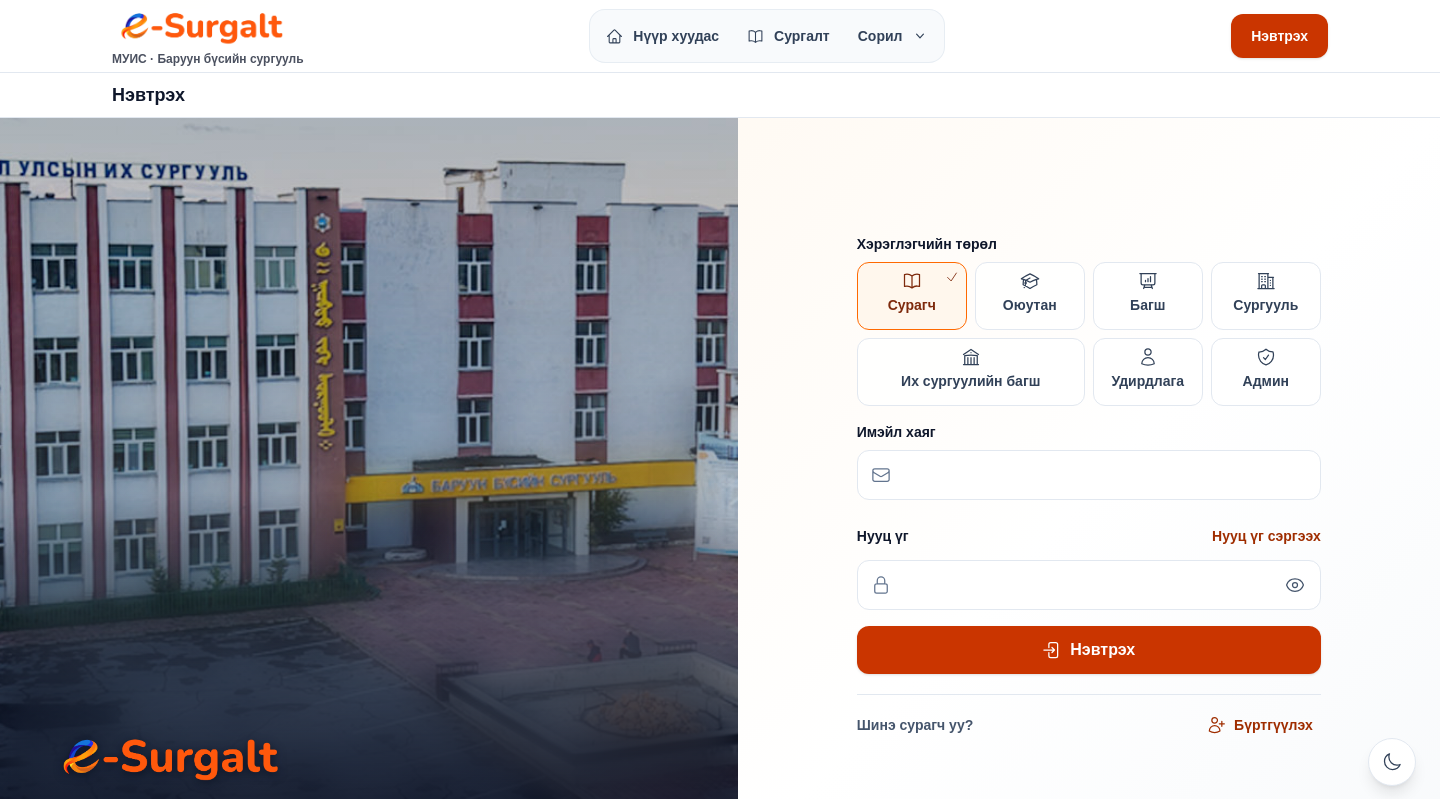
Scenario: a university teacher can sign in using a formatted Mongolian phone number
Step 1. Click the radio button labelled "Их сургуулийн багш" → (971, 372), box left=857, top=338, right=1085, bottom=406
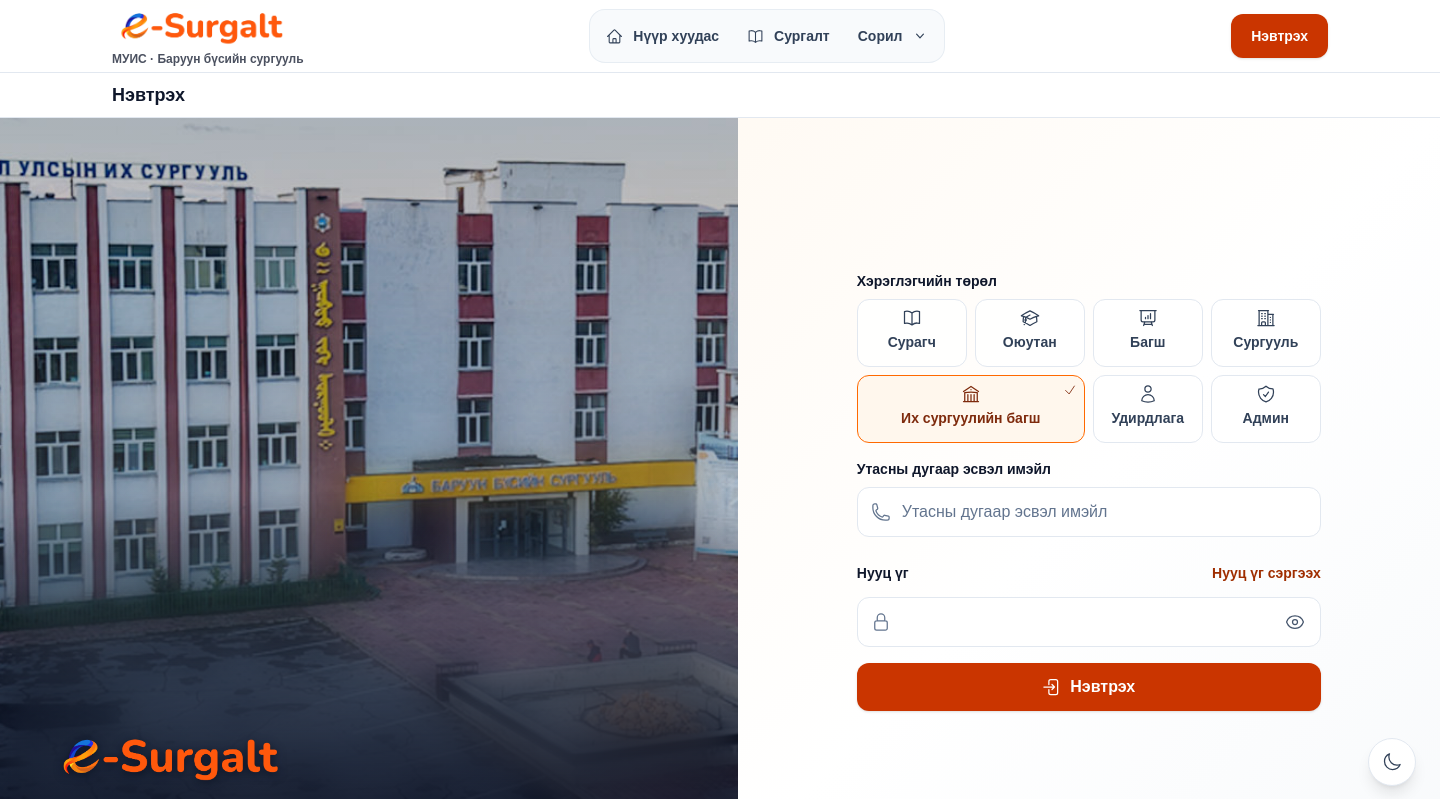
Step 2. Type "123" into the field labelled "Утасны дугаар эсвэл имэйл" → (1089, 512), box left=857, top=486, right=1321, bottom=536
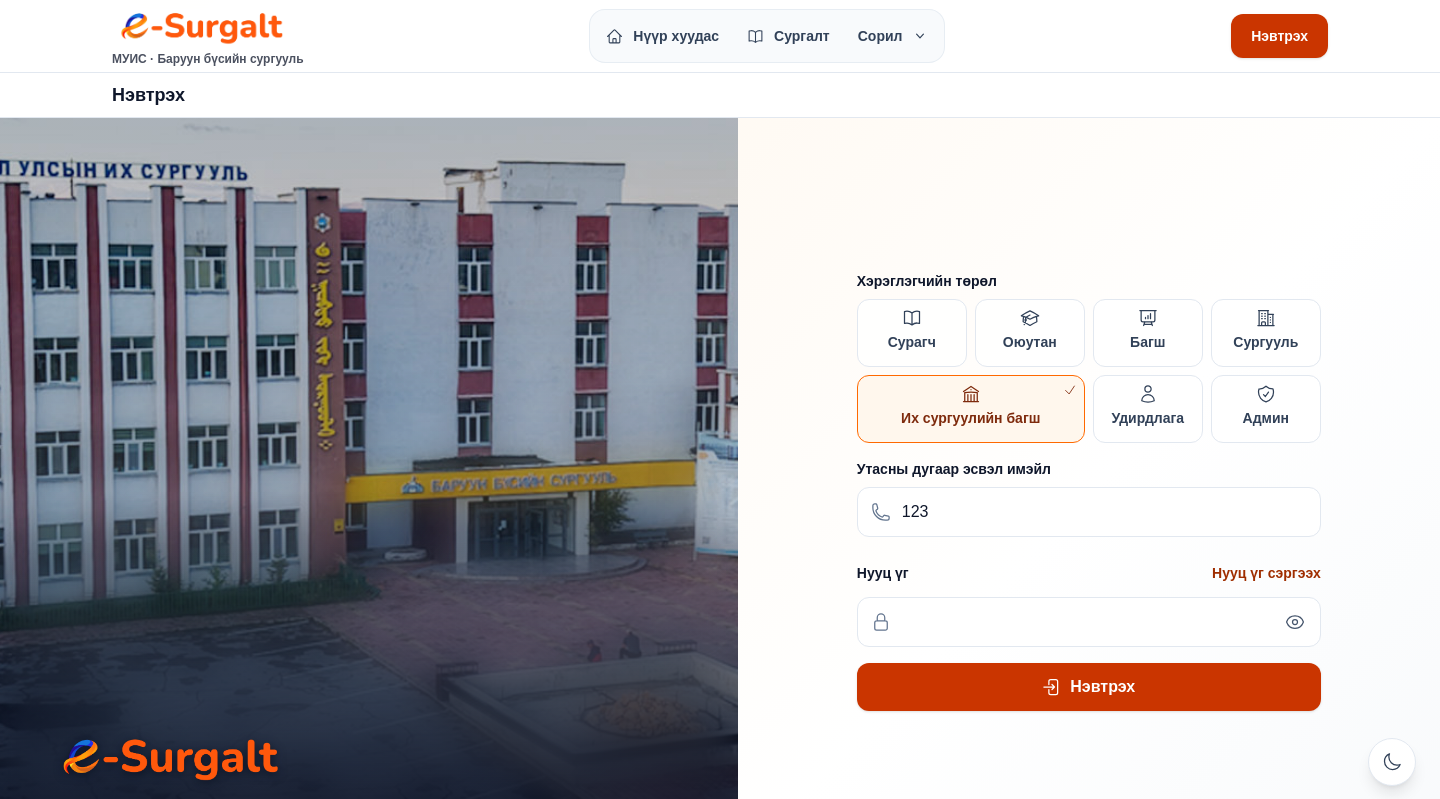
Step 3. Type "example-password" into the password field labelled "Нууц үг" → (1089, 622), box left=857, top=596, right=1321, bottom=646
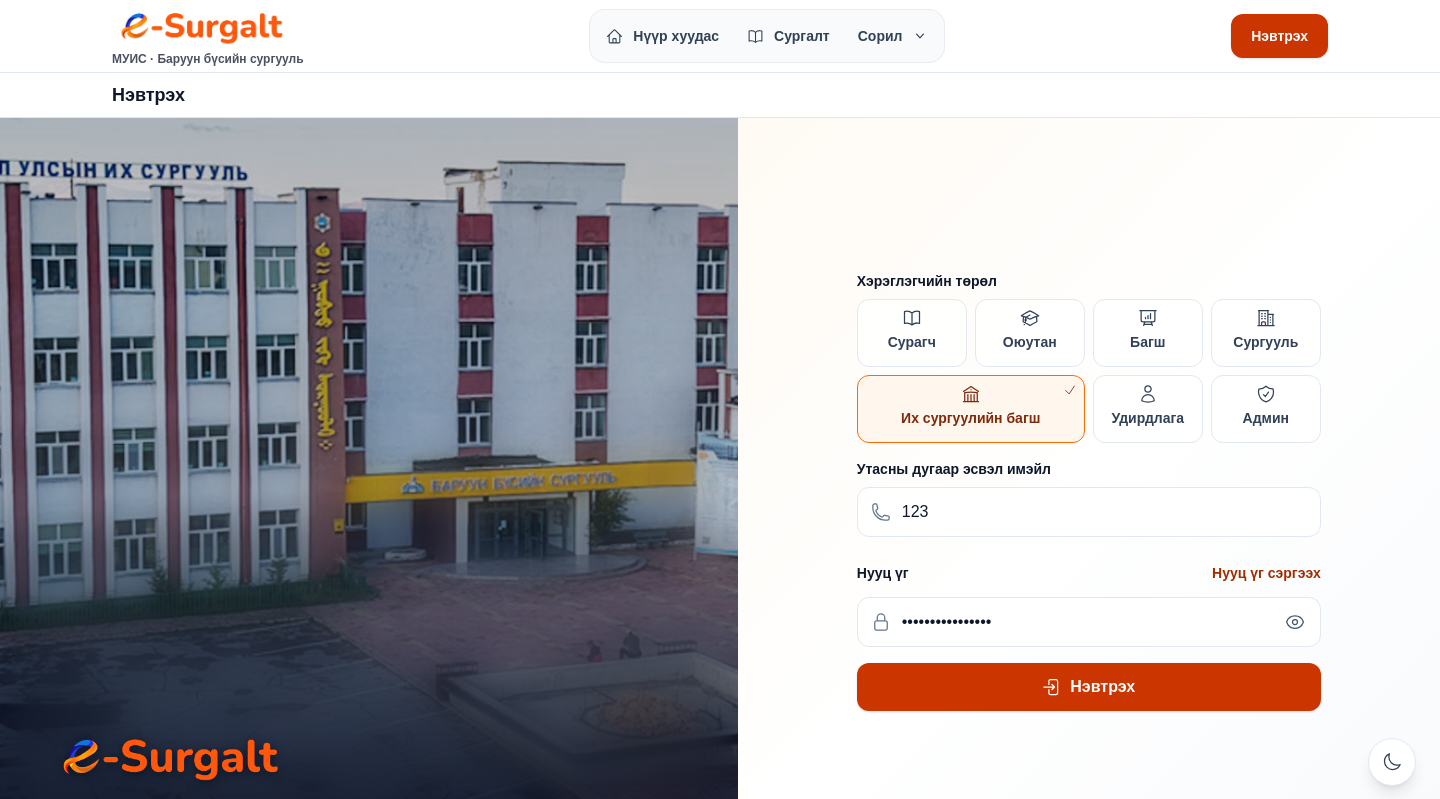
Step 4. Click the button "Нэвтрэх" → (1089, 686), box left=857, top=662, right=1321, bottom=710
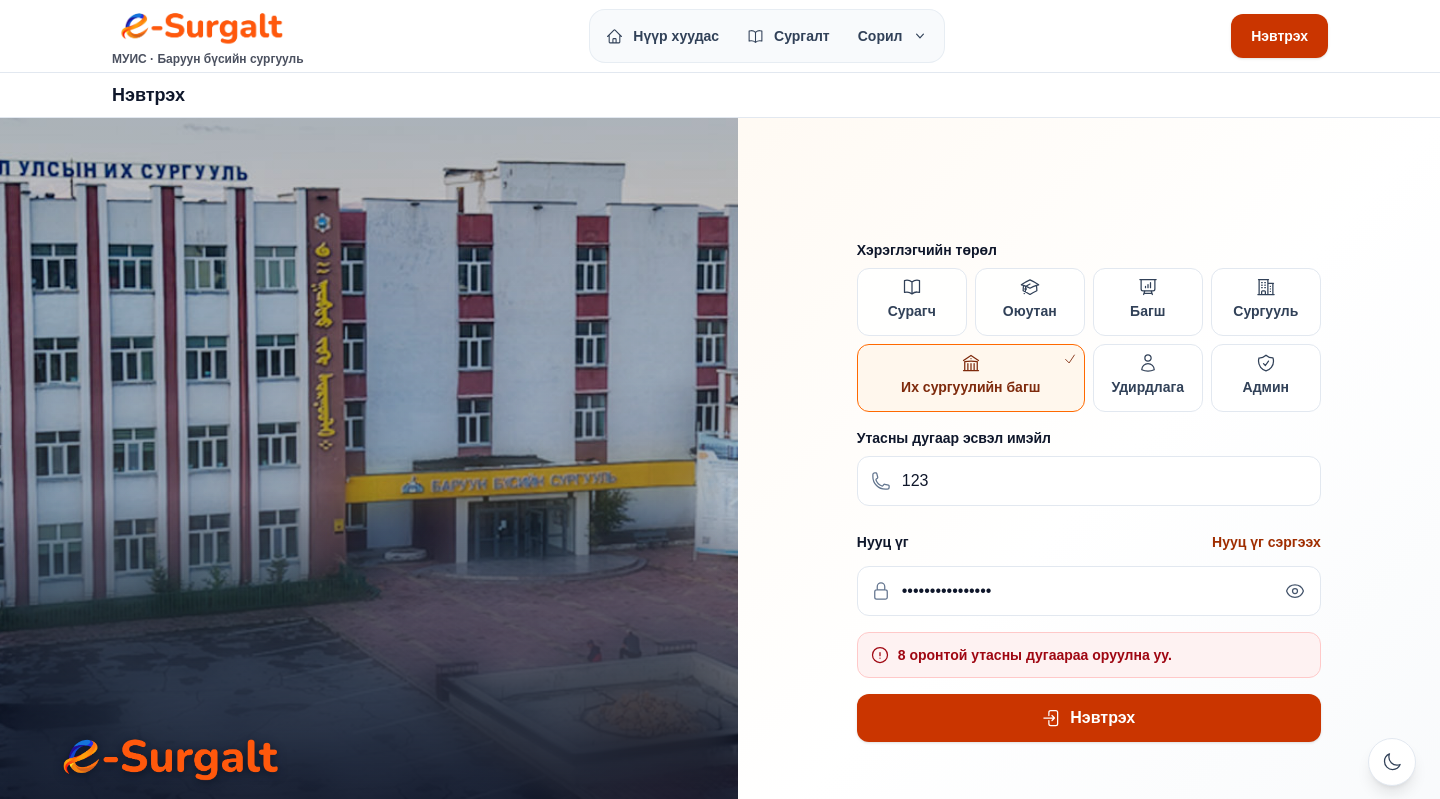
Expected: the message reads "8 оронтой утасны дугаараа оруулна уу.", left=898, top=646, right=1172, bottom=662
Step 5. Replace the text in the field labelled "Утасны дугаар эсвэл имэйл" with "+976 9911-2233" → (1089, 480), box left=857, top=456, right=1321, bottom=506
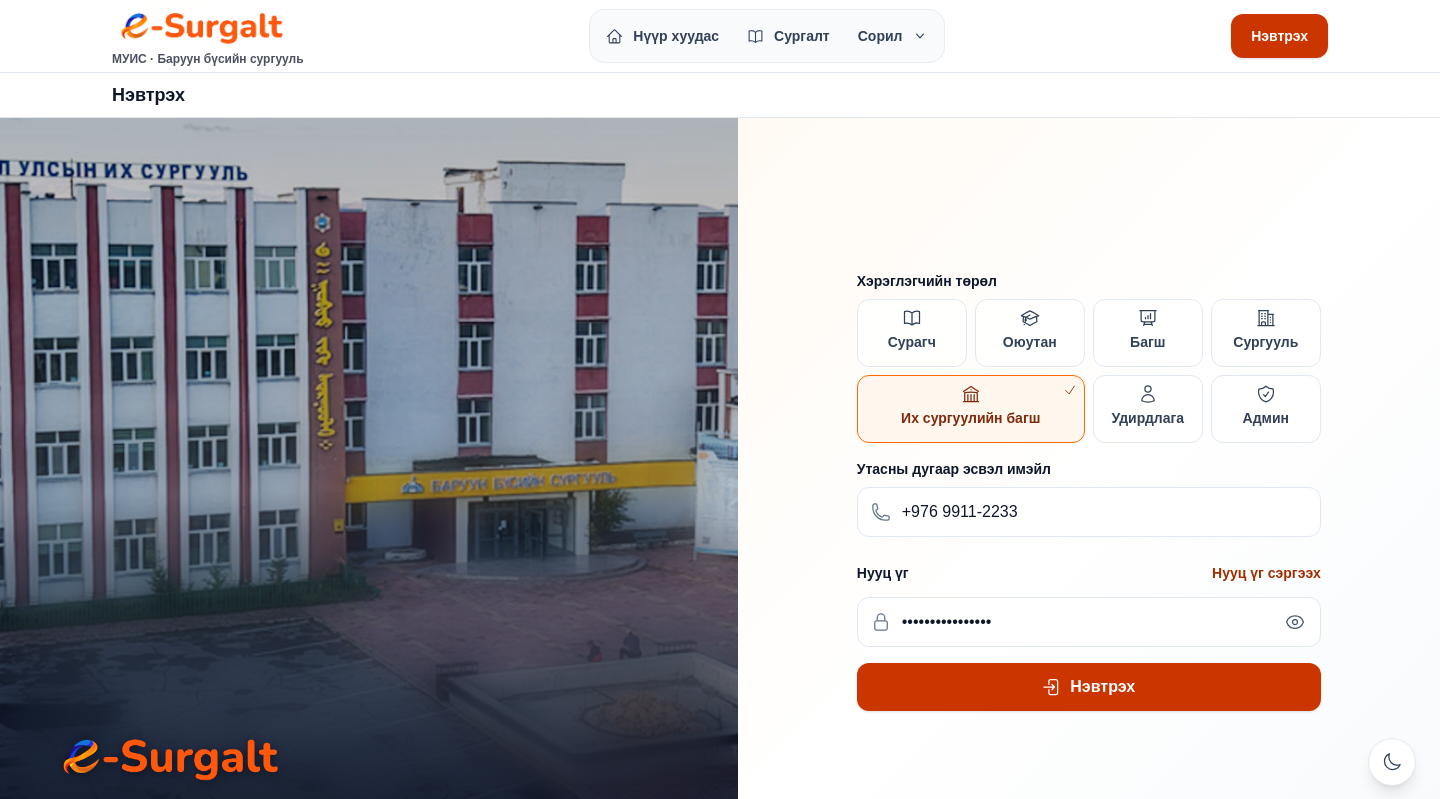
Step 6. Click the button "Нэвтрэх" → (1089, 686), box left=857, top=662, right=1321, bottom=710
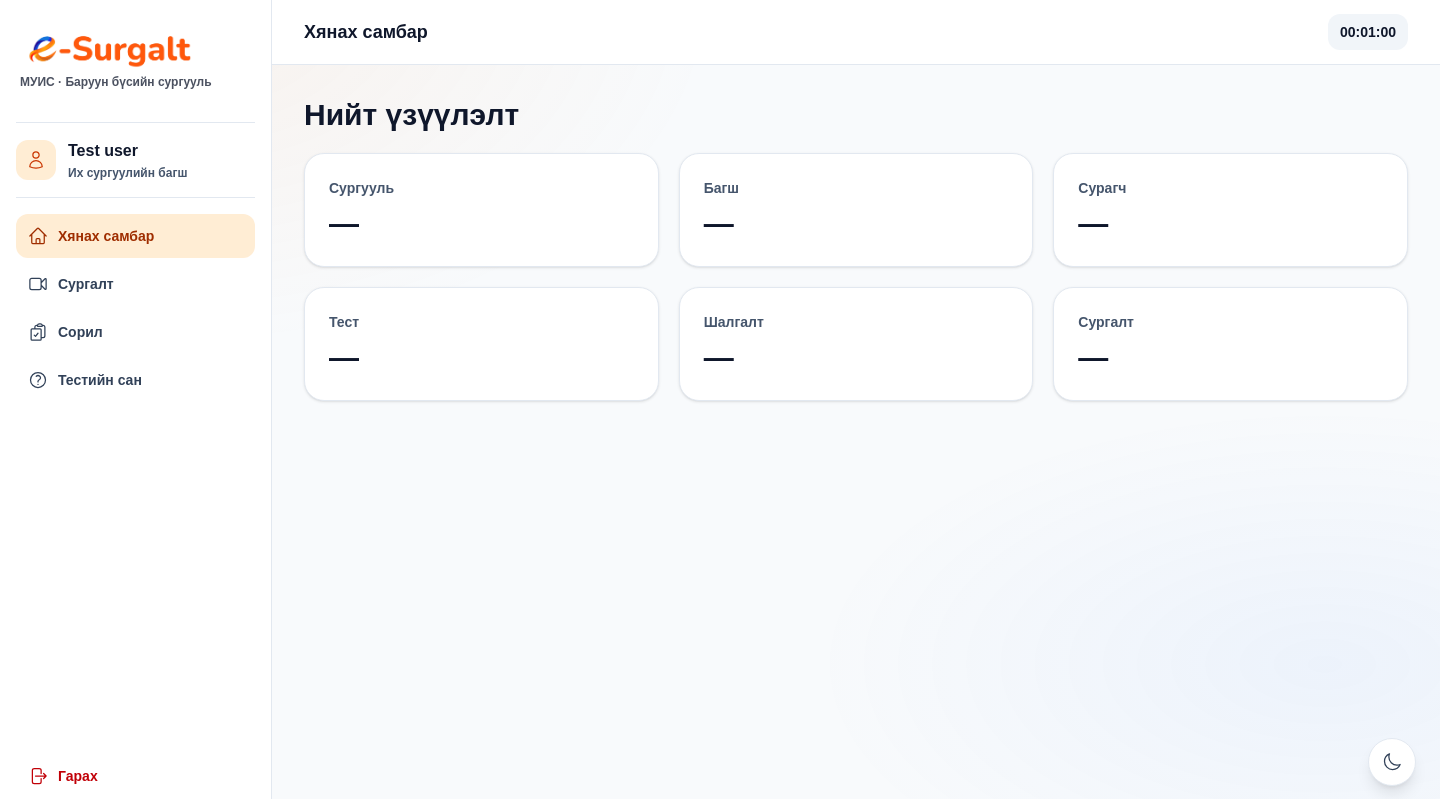
Expected: the heading "Нийт үзүүлэлт" is shown, left=304, top=98, right=519, bottom=131
